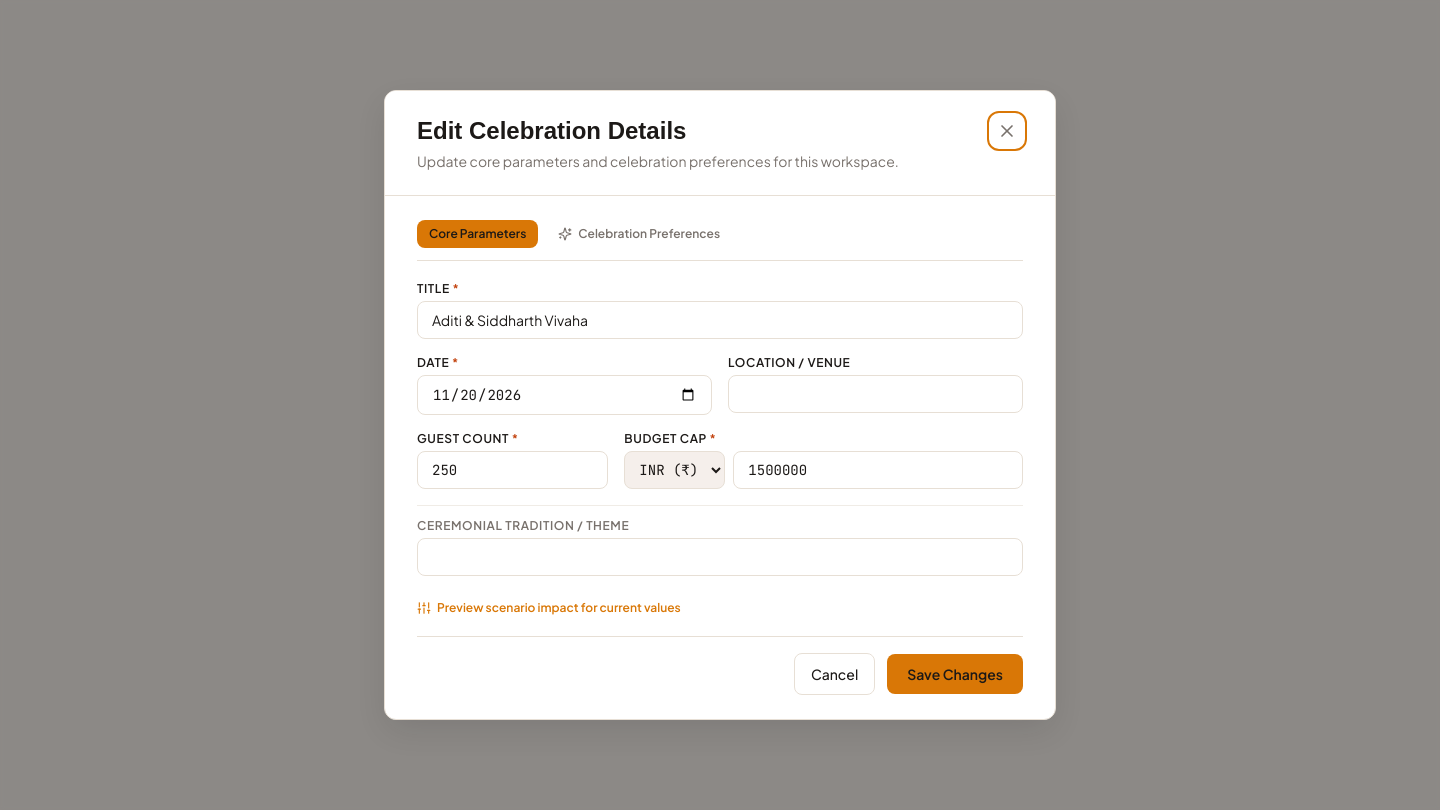
Scenario: EventEditDialog Component › recommends economize trade-offs and protects non-negotiables under deficit
# Drop budget cap significantly to 800,000 (below total projected 1,000,000)
Replace the text in the number field labelled "Budget Cap *" with "800000" at (878, 470), box [733,451,1023,489]
(page scrolled)
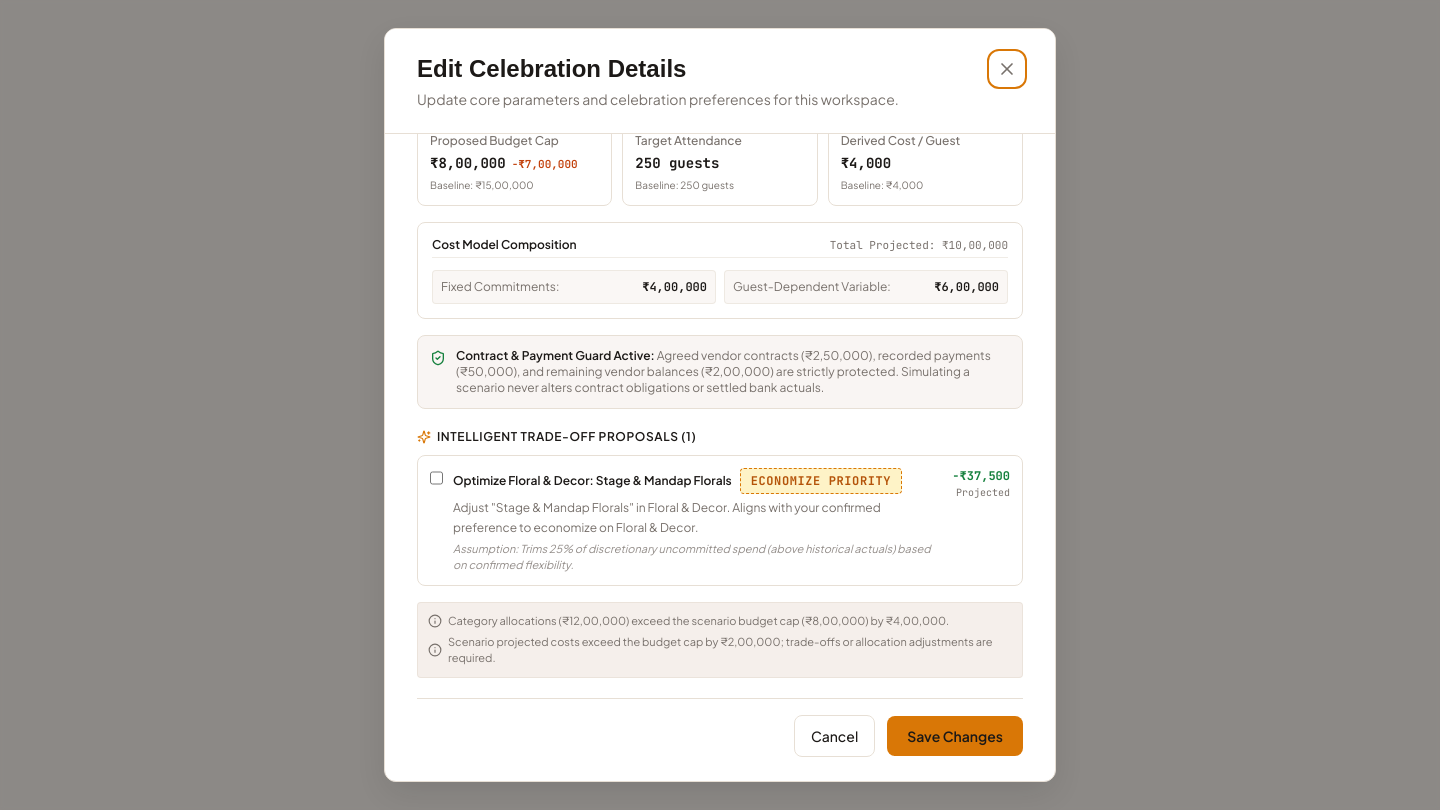
Now the element with test id "scenario-impact-preview" is shown, box [417,134,1023,678]
Now the text "Intelligent Trade-Off Proposals (1)" is shown, box [417,429,696,445]
Now the text "Optimize Floral & Decor: Stage & Mandap Florals" is shown, box [453,473,732,489]
